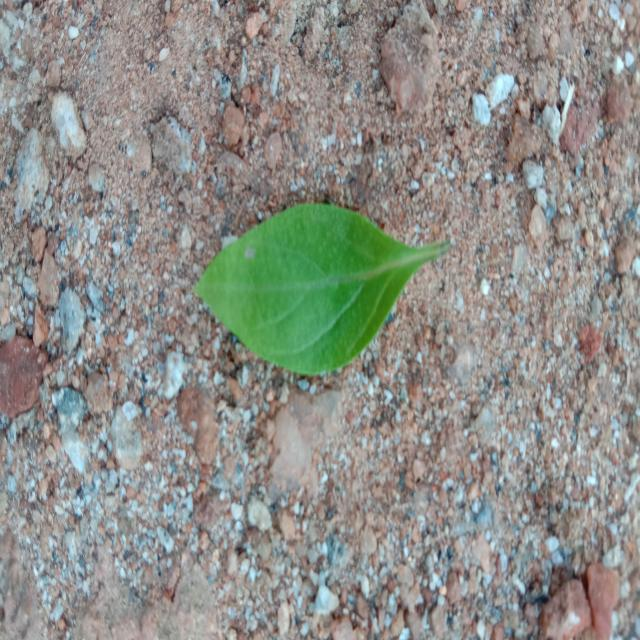kamakasturi: (195, 203, 449, 376)
